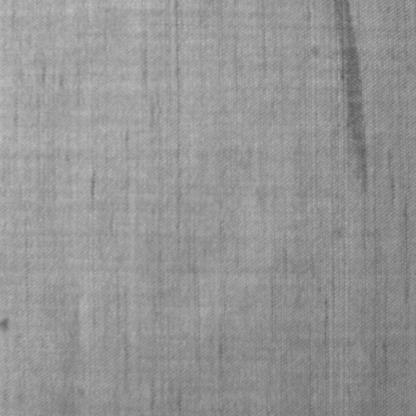oil spot: (331, 0, 368, 193)
